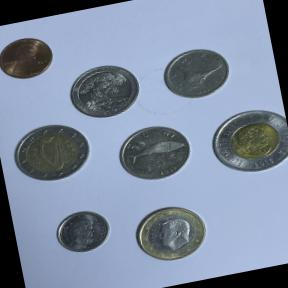coin: (202, 100, 288, 185), (2, 114, 96, 190), (127, 194, 214, 270), (110, 116, 197, 188), (61, 57, 145, 125), (46, 199, 116, 262), (0, 31, 58, 87)
